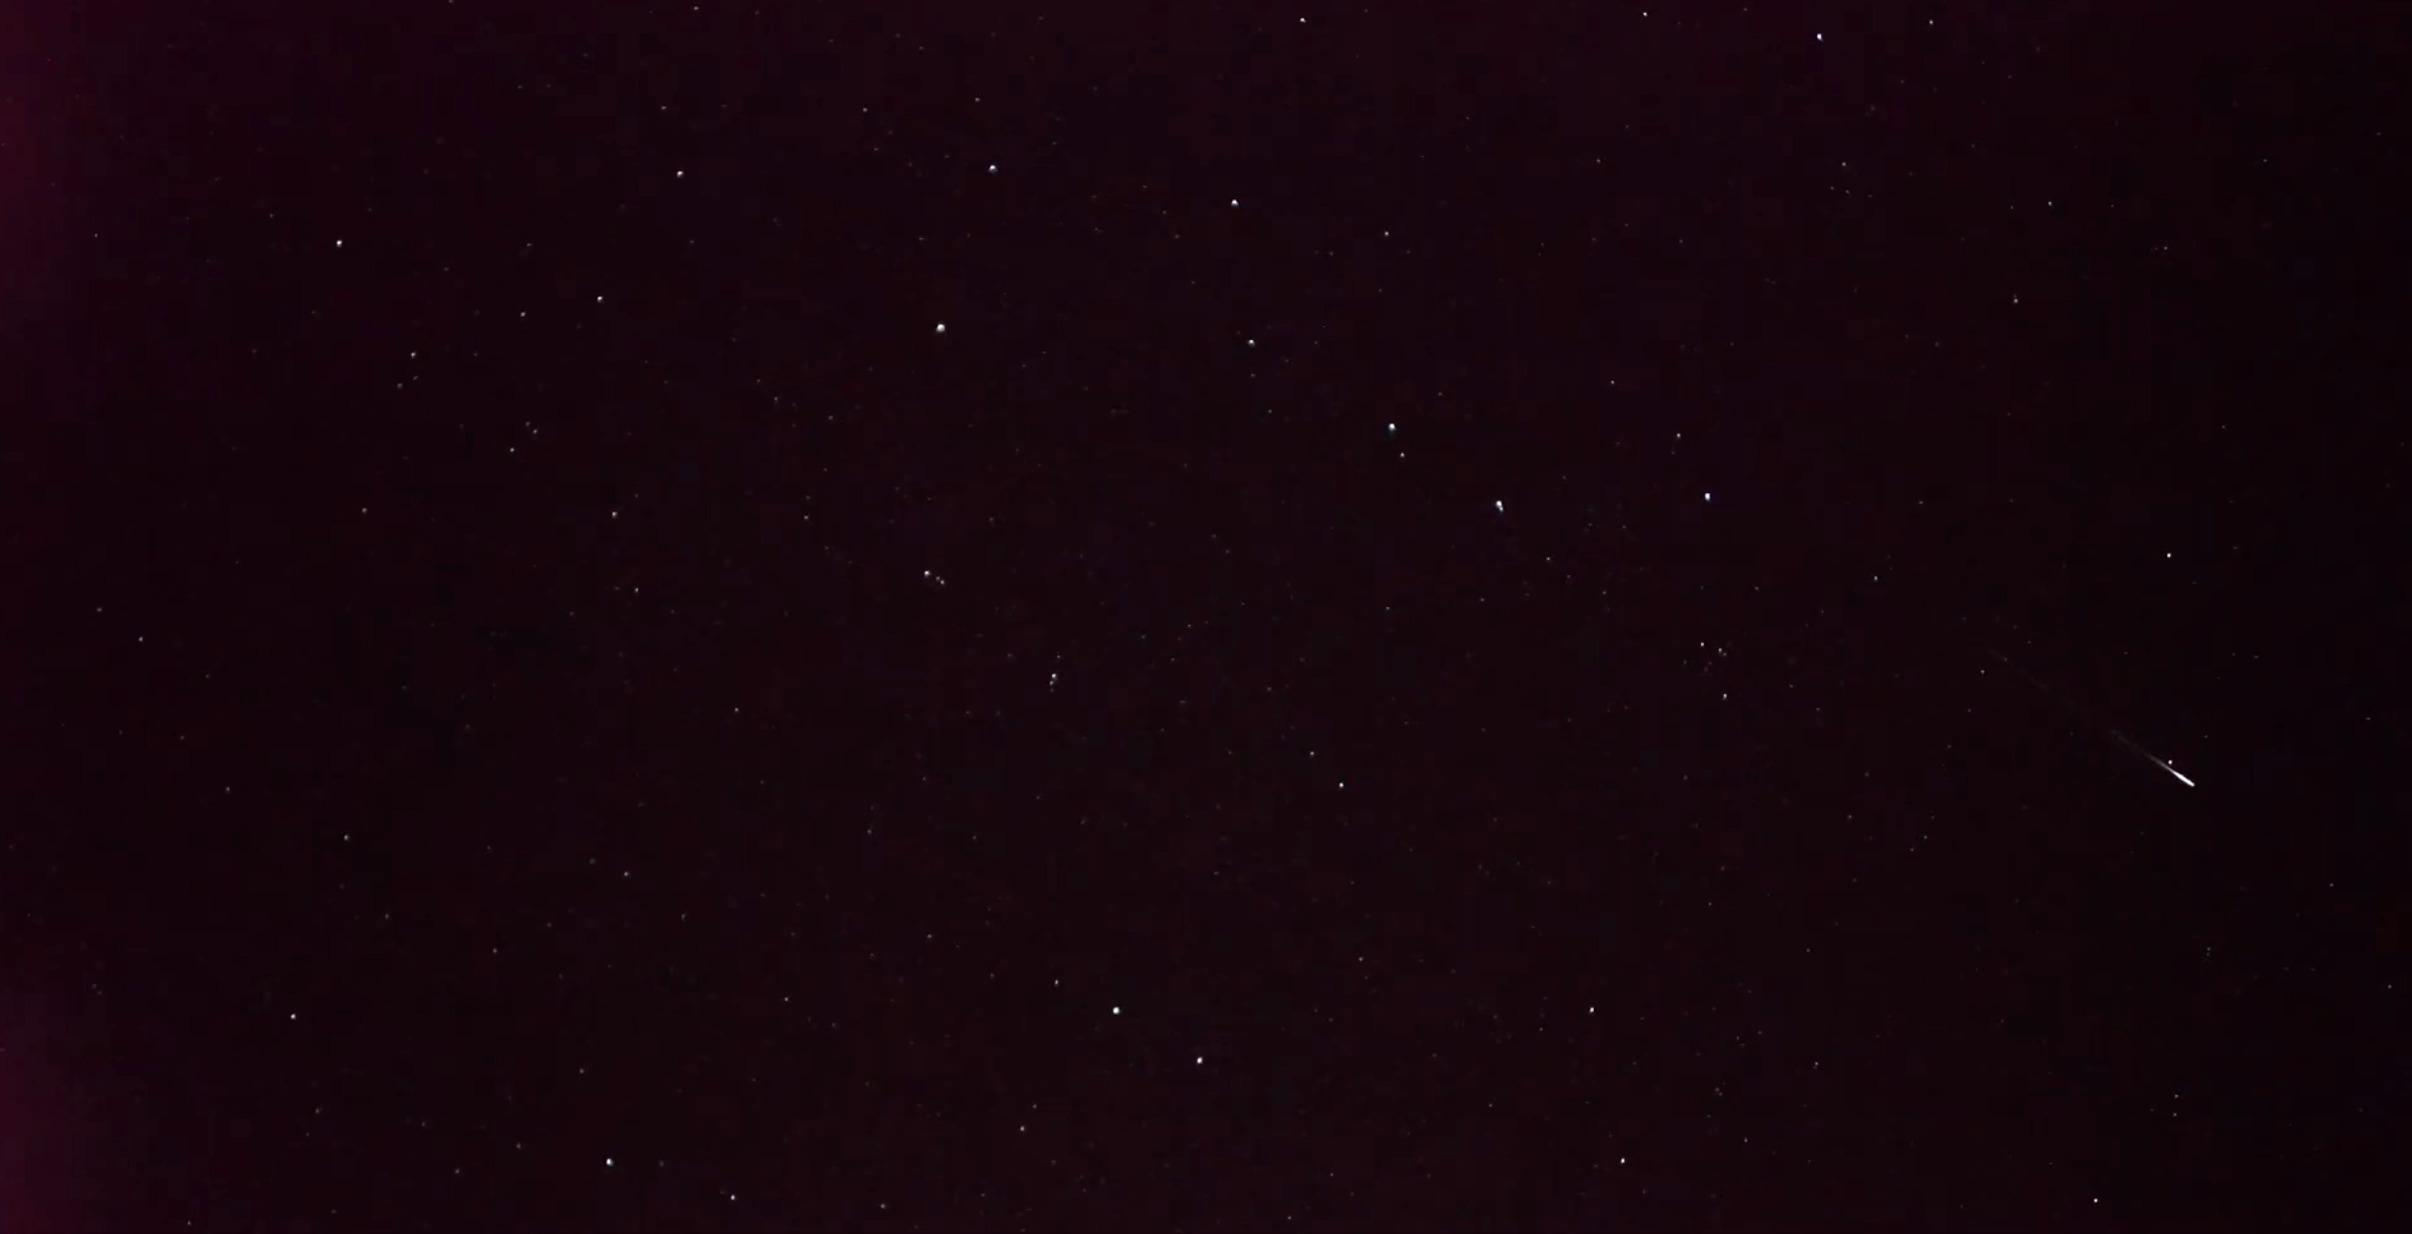meteorite: (2096, 719, 2234, 803)
